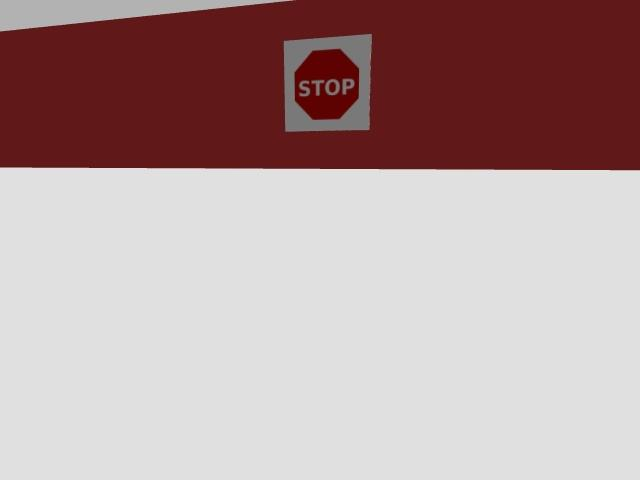stopsign: (285, 35, 371, 131)
